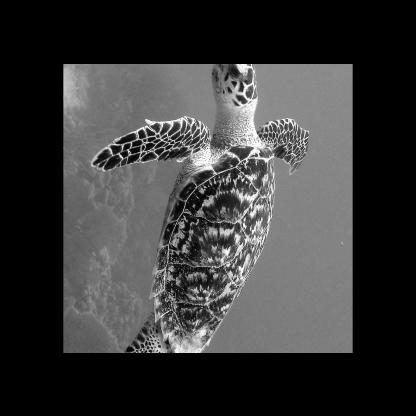turtle: (92, 63, 310, 352)
